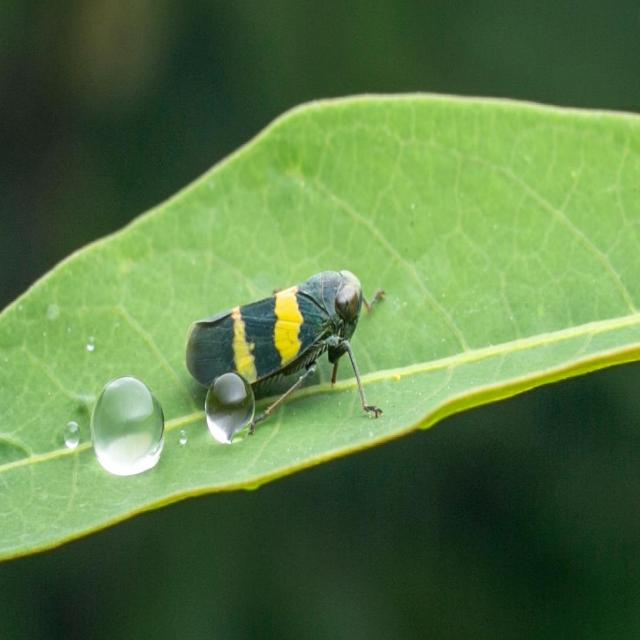Yechan: (184, 265, 390, 425)
